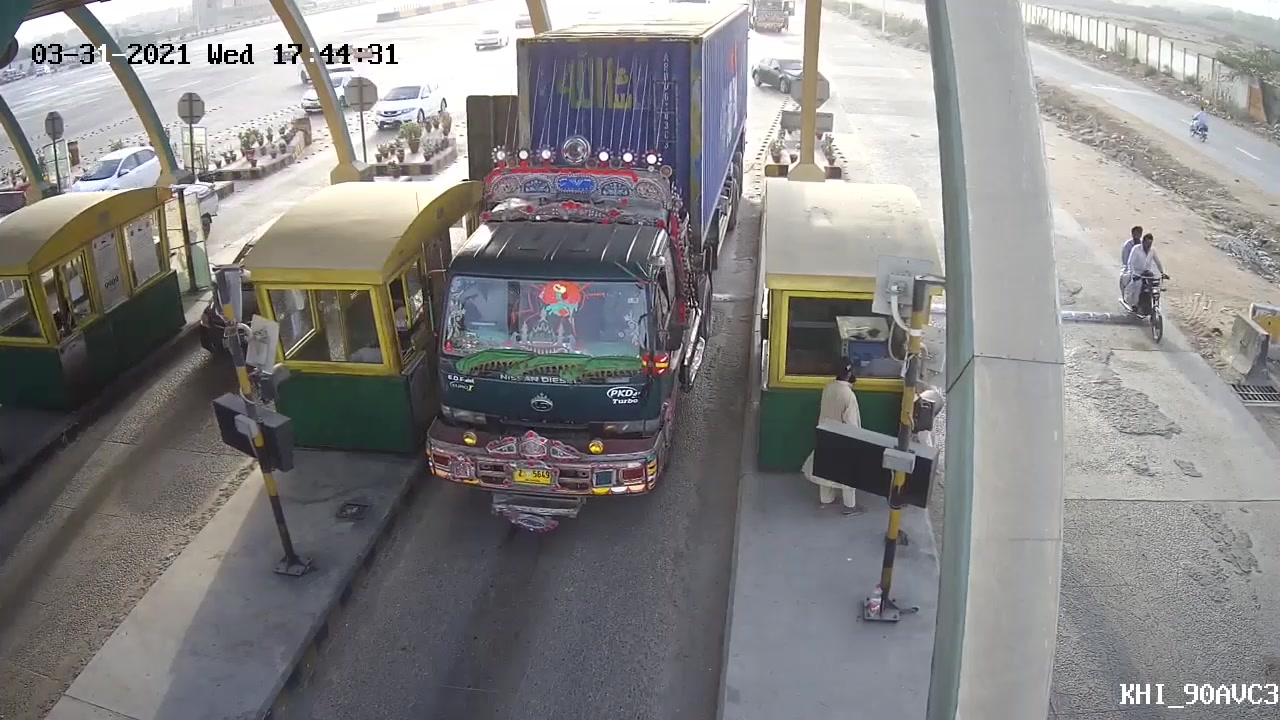F6: (416, 13, 749, 522)
